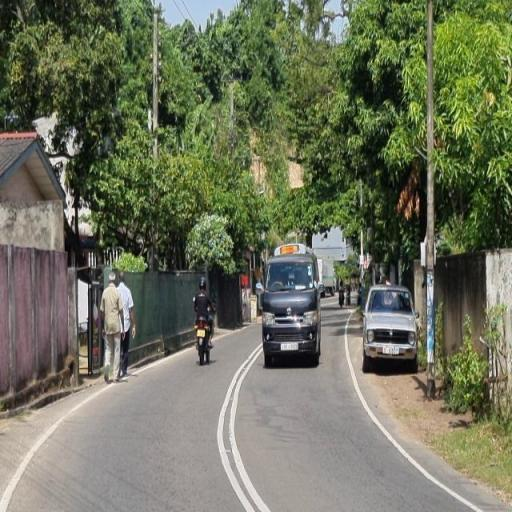double_white_line: (339, 316, 484, 511), (216, 342, 266, 511)
